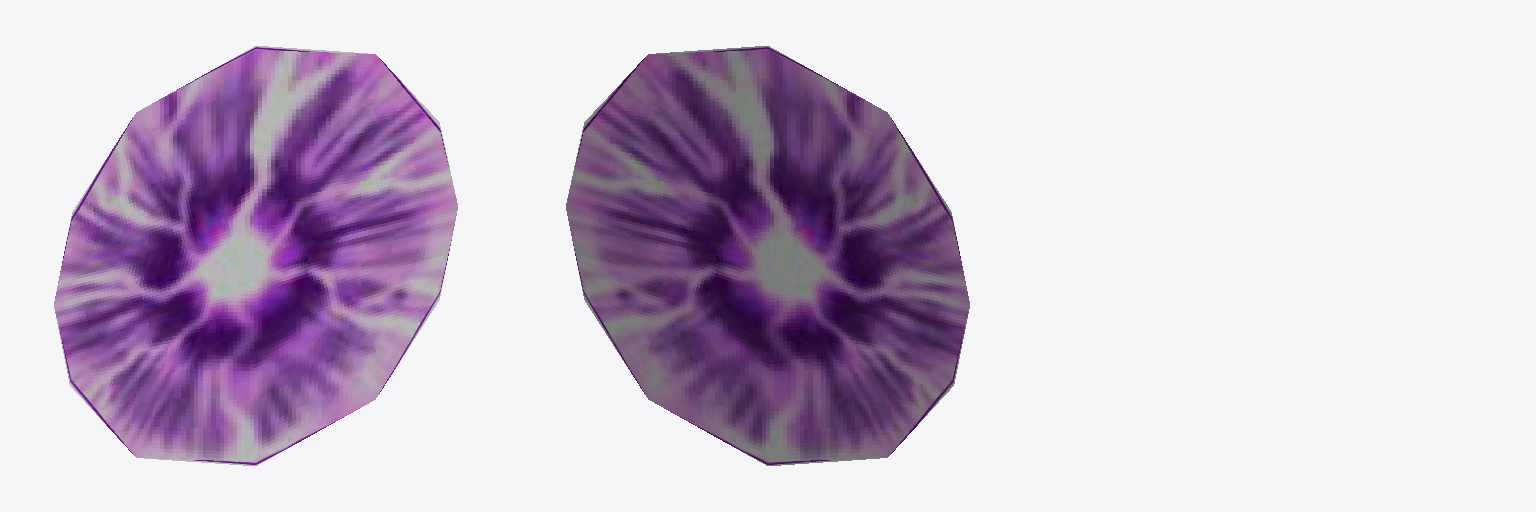
The picture shows the model from 3 angles: view 1: azimuth 30°, elevation 25°; view 2: azimuth 150°, elevation 25°; view 3: azimuth 270°, elevation 25°; orthographic projection.
Visible parts, largest first — view 1: 平面; view 2: 平面; view 3: none.
Boxes of the visible parts, x1,y1,x2,y2 form: 平面: [54, 46, 457, 465]; 平面: [566, 46, 969, 465].
Bounding box in the file's own units: 1.37 × 1.36 × 0.
Materials: 1 (1 with a texture image).